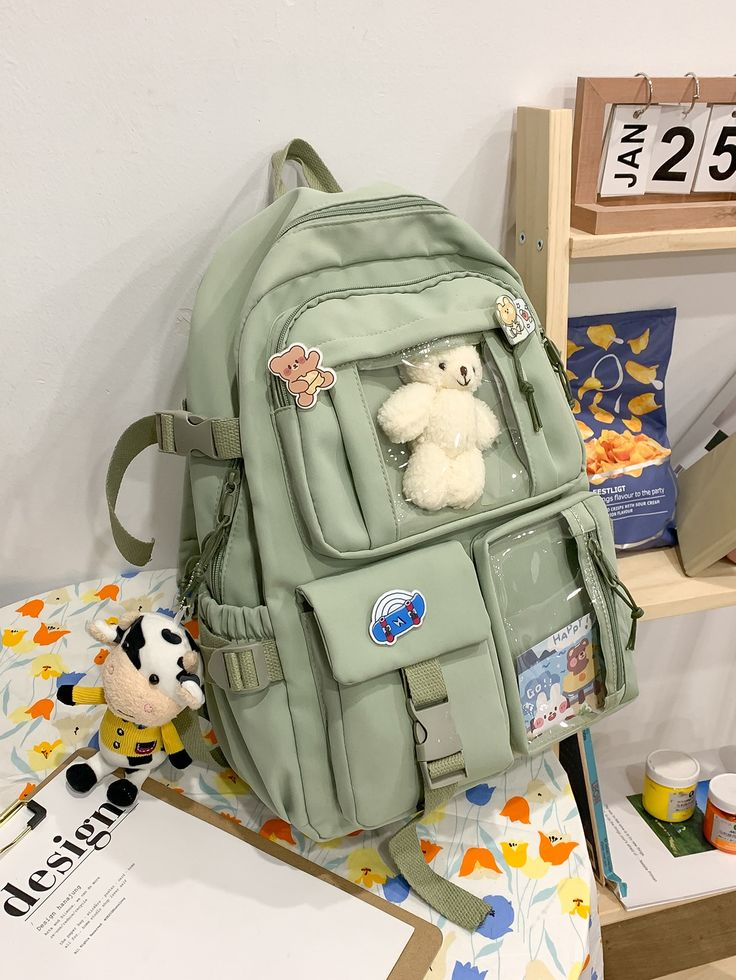nylon: (184, 185, 638, 844)
